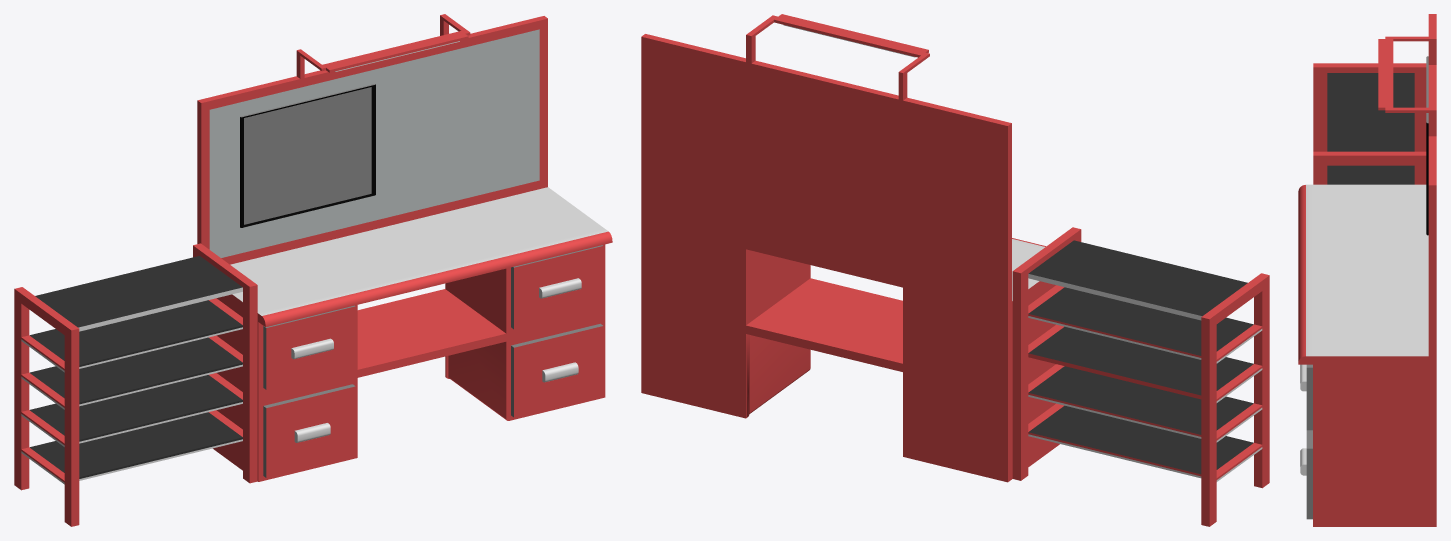
File: ATK.fbx
3 renders of one model, left to right at view 1: azimuth 30°, elevation 25°; view 2: azimuth 150°, elevation 25°; view 3: azimuth 270°, elevation 25°, orthographic. The views are drawn at different scales.
Parts seen in each view (by area): view 1: WorkBench, Storage2, Tools Frame; view 2: WorkBench, Storage2; view 3: WorkBench, Storage2, Tools Frame.
Part boxes in pixels (box(x1,y1,x2,y2)): WorkBench: box(197, 14, 612, 481); Storage2: box(14, 243, 257, 526); Tools Frame: box(240, 84, 375, 227); WorkBench: box(641, 14, 1059, 482); Storage2: box(1012, 227, 1269, 526); WorkBench: box(1298, 14, 1436, 526); Storage2: box(1313, 63, 1426, 184); Tools Frame: box(1426, 56, 1428, 235).
Bounding box in the file's own units: 126 × 81.58 × 27.79.
